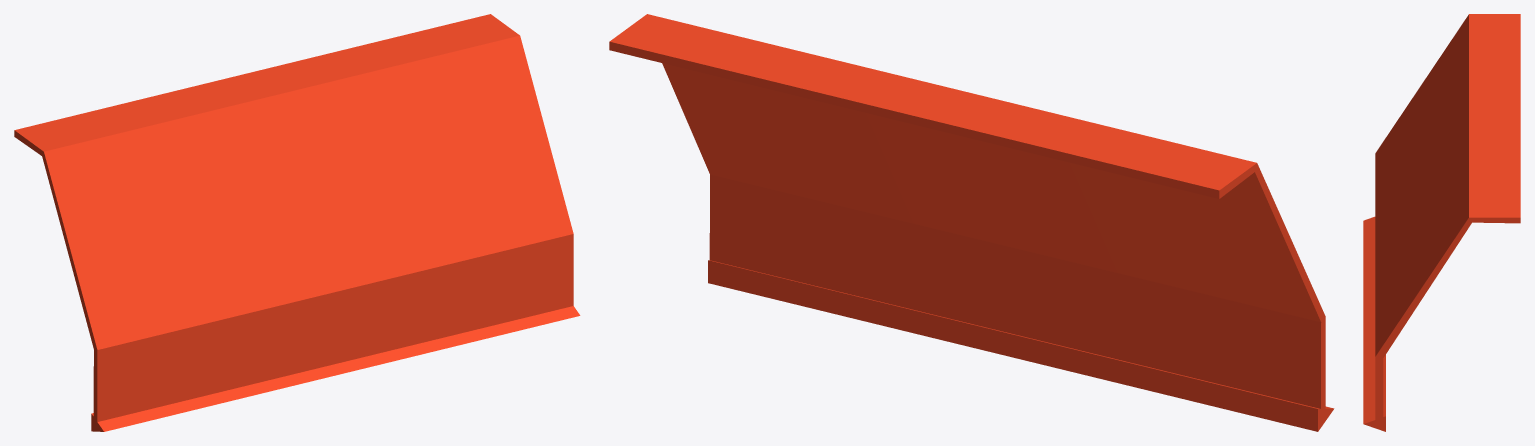
File: SM_Awning_A_2M_City.fbx
3 views of the same model, side by side, from view 1: azimuth 30°, elevation 25°; view 2: azimuth 150°, elevation 25°; view 3: azimuth 270°, elevation 25° (orthographic). The views are drawn at different scales.
Visible parts, largest first — view 1: SM_Awning_A_2M_City; view 2: SM_Awning_A_2M_City; view 3: SM_Awning_A_2M_City.
Part boxes in pixels (bbox=[...]): SM_Awning_A_2M_City: bbox=[14, 14, 580, 431]; SM_Awning_A_2M_City: bbox=[609, 14, 1334, 431]; SM_Awning_A_2M_City: bbox=[1363, 14, 1520, 431].
Size of the model in its own units: 2 by 0.9828 by 0.6536.
